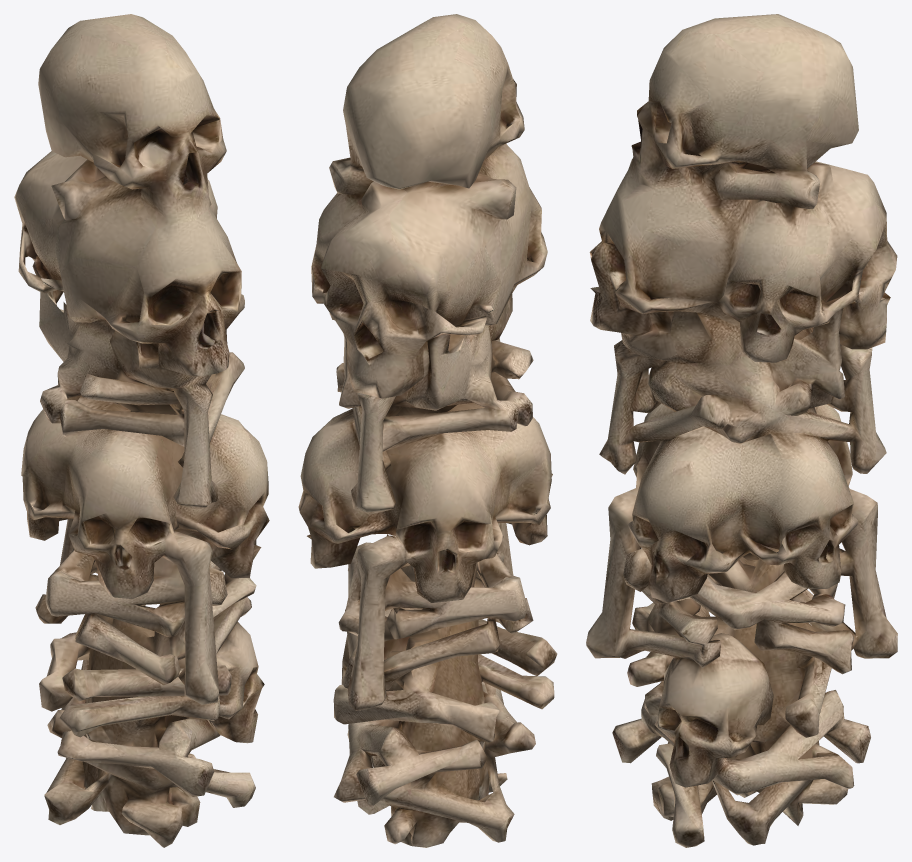
Rendered from bonepillar.glb.
The picture shows the model from 3 angles, left to right: view 1: azimuth 30°, elevation 25°; view 2: azimuth 150°, elevation 25°; view 3: azimuth 270°, elevation 25°; orthographic projection.
Visible parts, largest first — view 1: Mesh_0; view 2: Mesh_0; view 3: Mesh_0.
Boxes of the visible parts, x1,y1,x2,y2 form: Mesh_0: (14, 14, 269, 847); Mesh_0: (298, 14, 557, 847); Mesh_0: (586, 14, 897, 847).
Bounding box in the file's own units: 0.4832 × 1.89 × 0.6677.
Materials: 1 (1 with a texture image).
